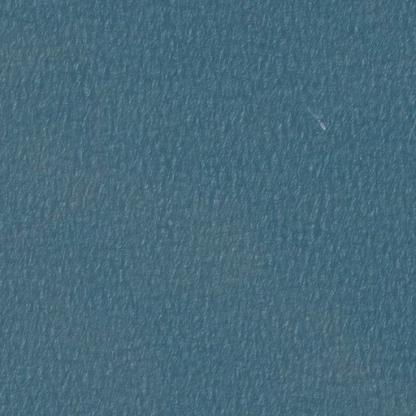ship: (311, 110, 330, 136)
